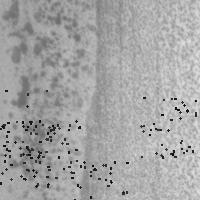pitted_surface: (97, 1, 199, 200), (8, 1, 91, 179), (20, 120, 79, 178), (140, 97, 195, 156), (0, 124, 53, 183), (0, 90, 49, 150), (0, 128, 47, 185), (71, 160, 126, 200)
